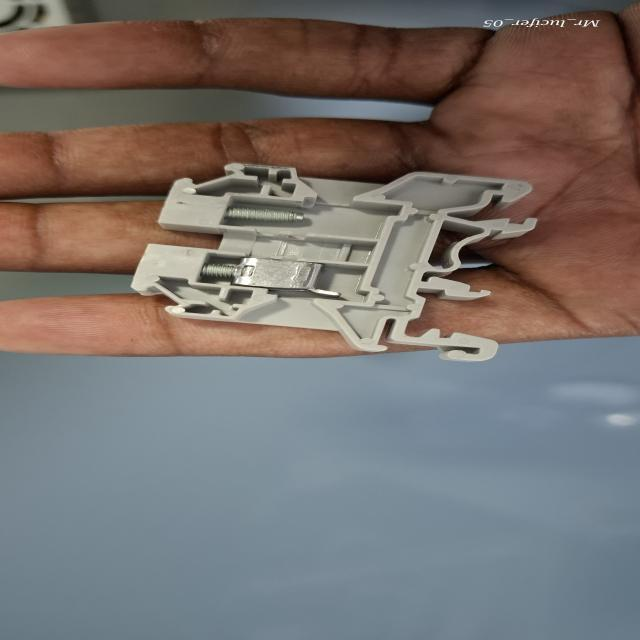Reject: (134, 162, 554, 368)
